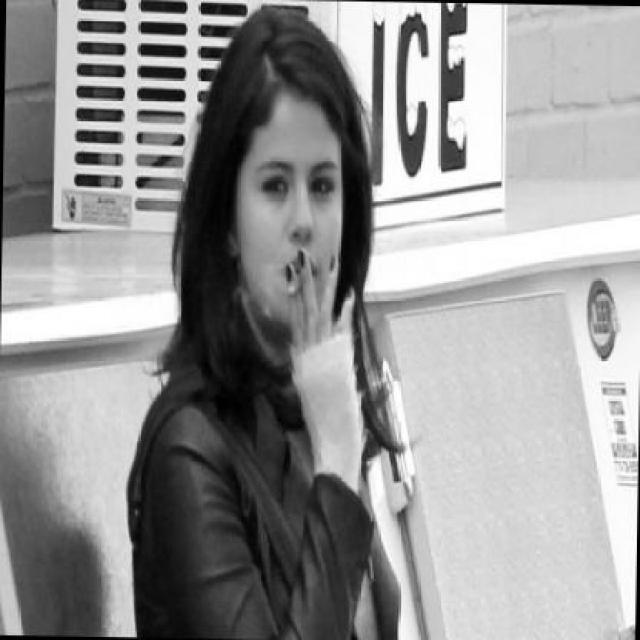cigarette: (286, 272, 305, 298)
